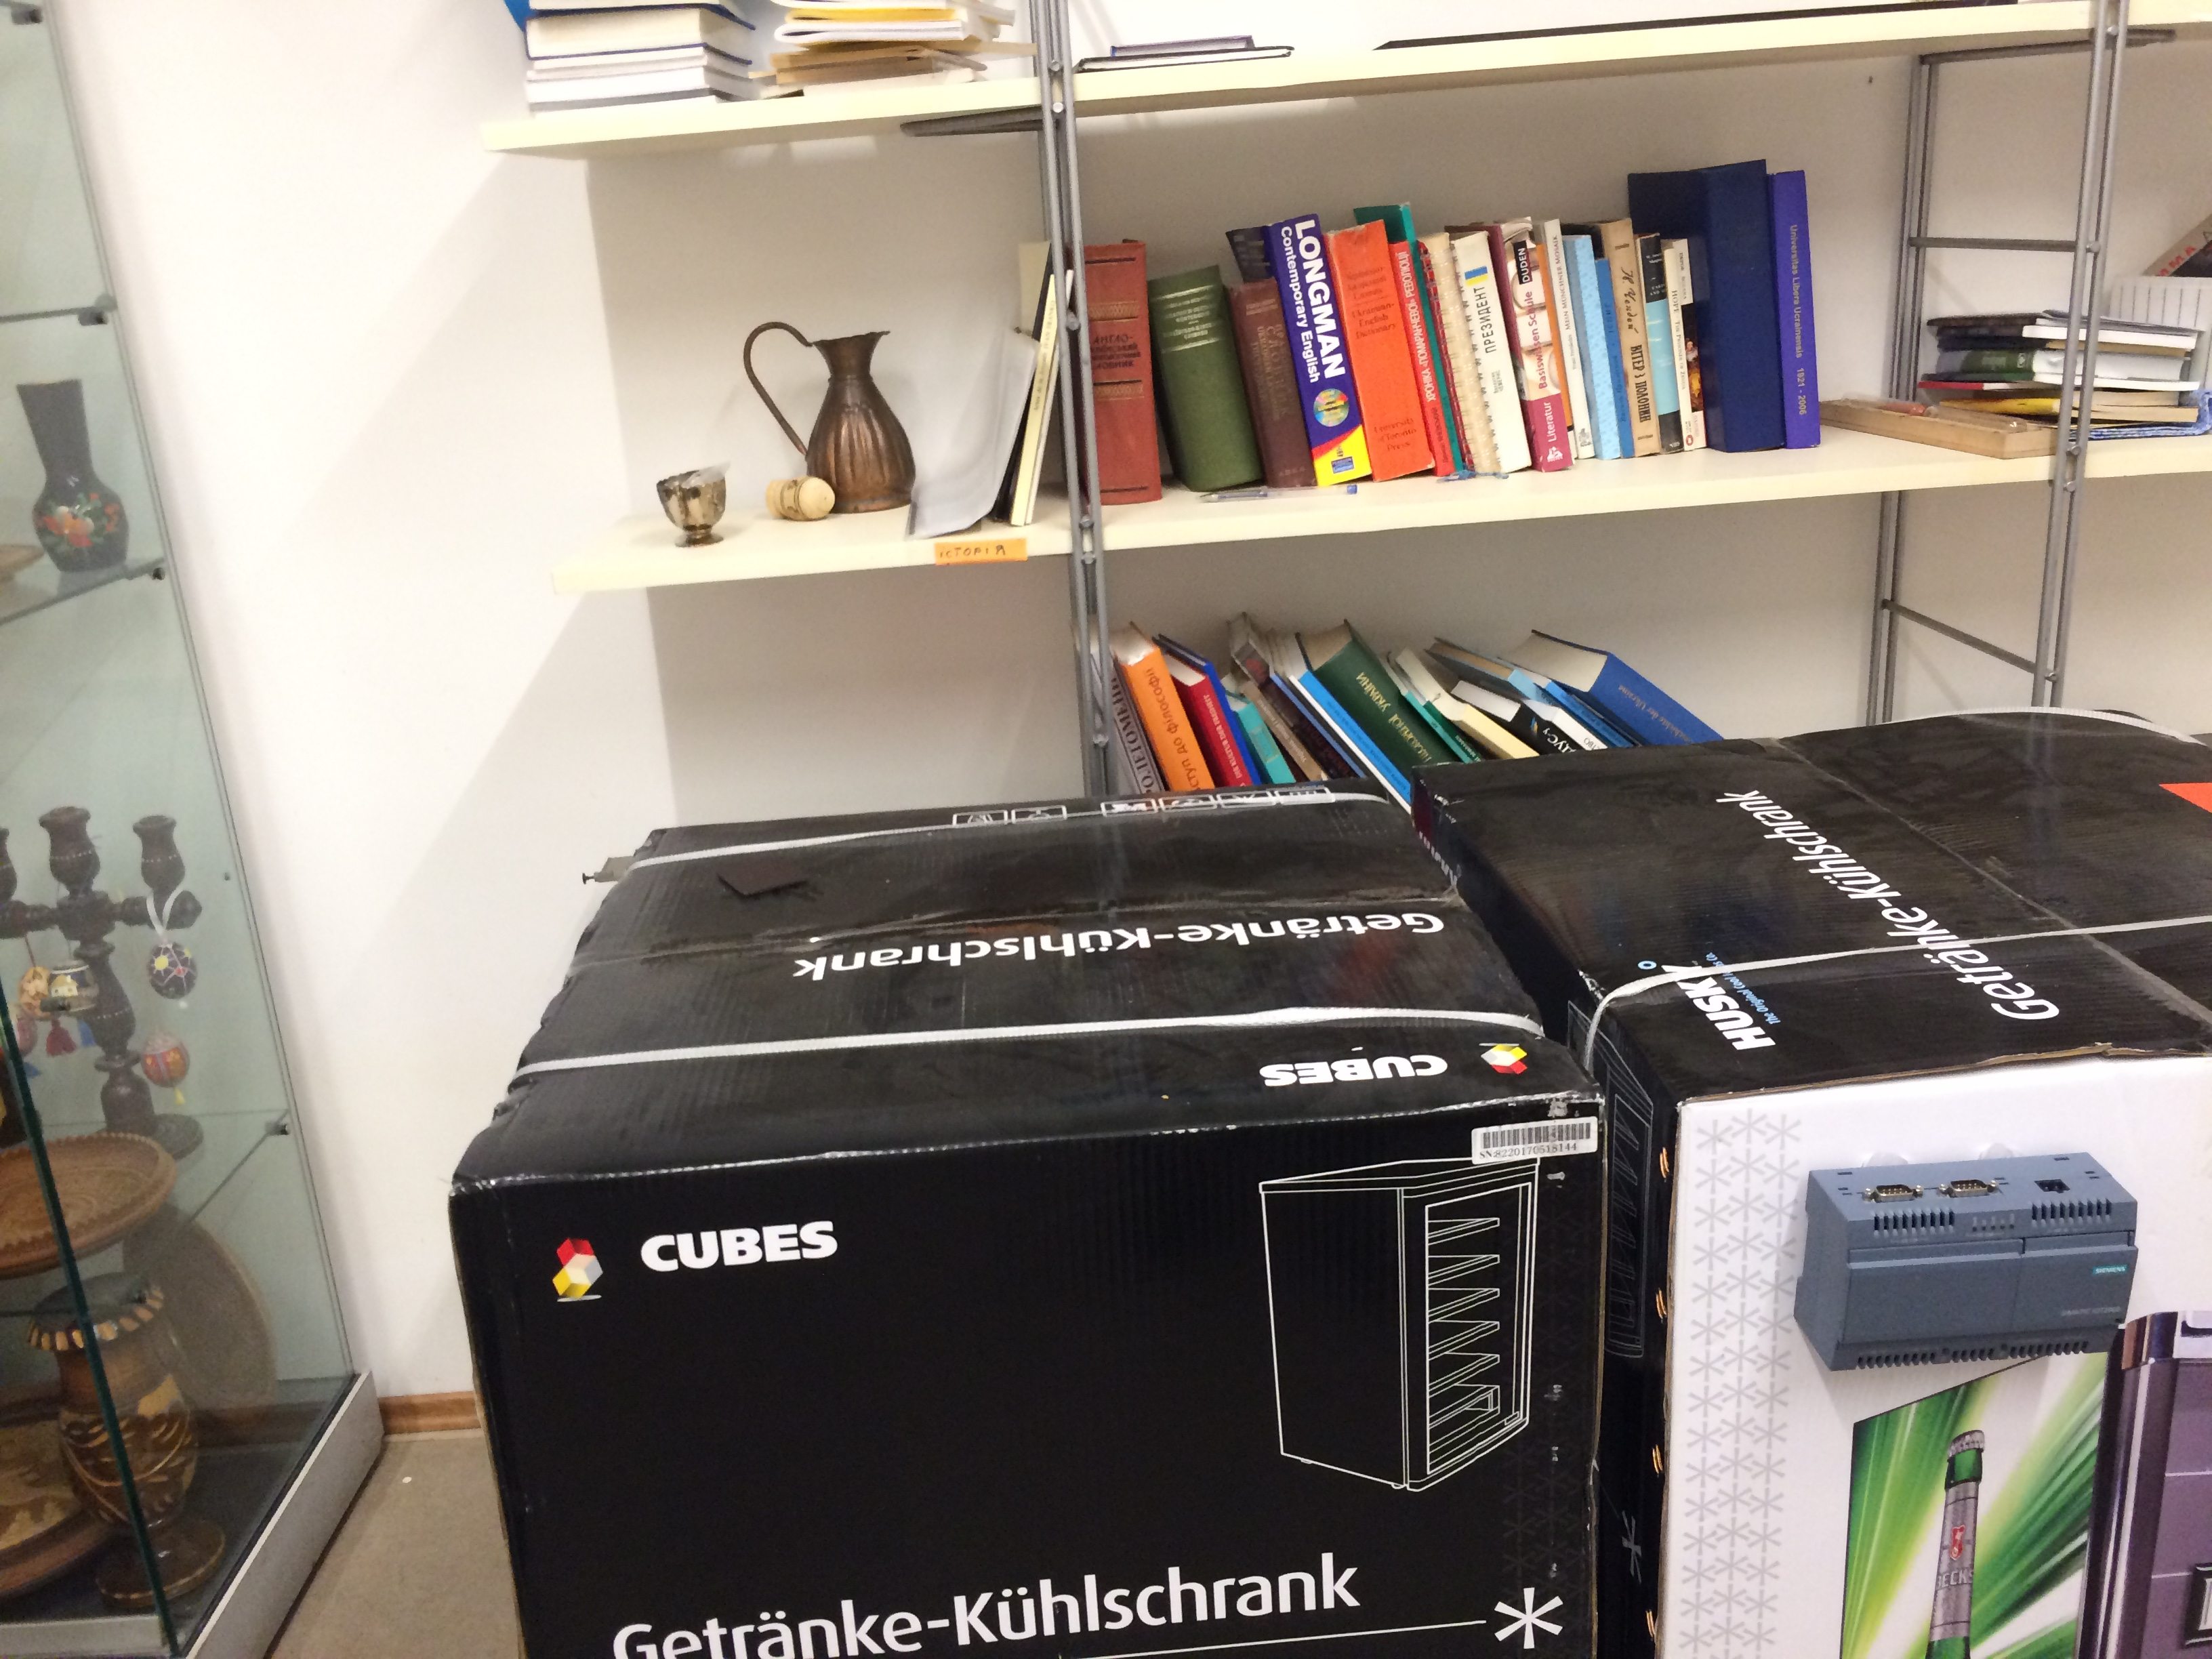iot2000: (1791, 1148, 2141, 1375)
